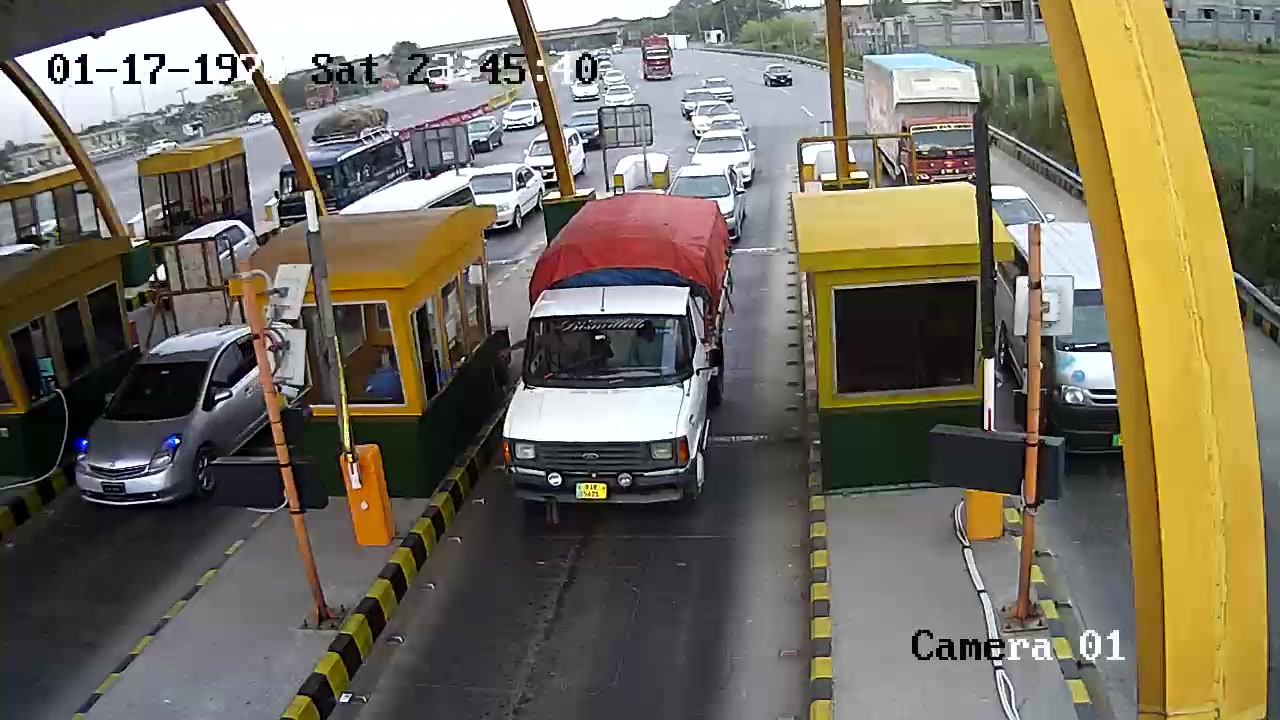F2: (496, 190, 740, 526)
